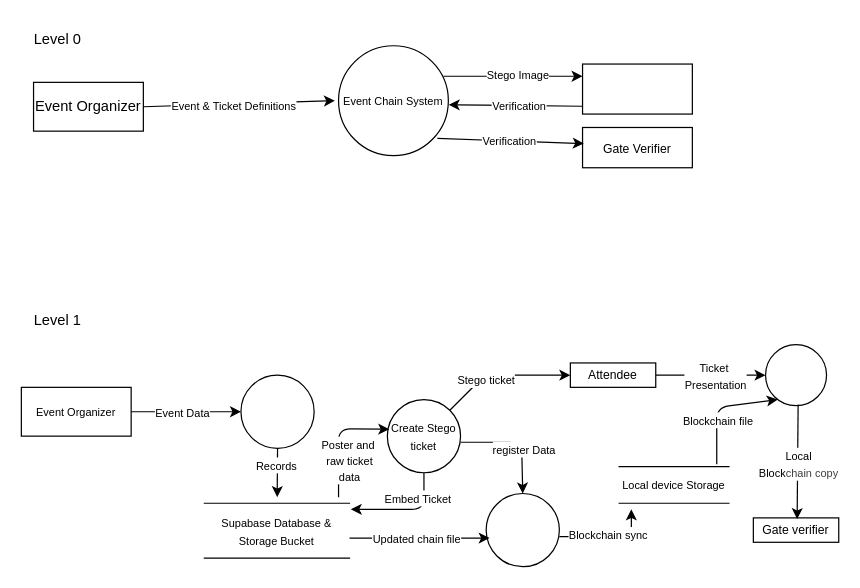
Image size: 860x588. Some labels were removed from this diagram. Here are the shapes that lost their labels. From the top down, the centre of each, then its label:
pixel 636 88: Event Attendee
pixel 795 374: Verify Ticket
pixel 277 411: Manage Event Data
pixel 522 529: Mine and Sync blockchain
